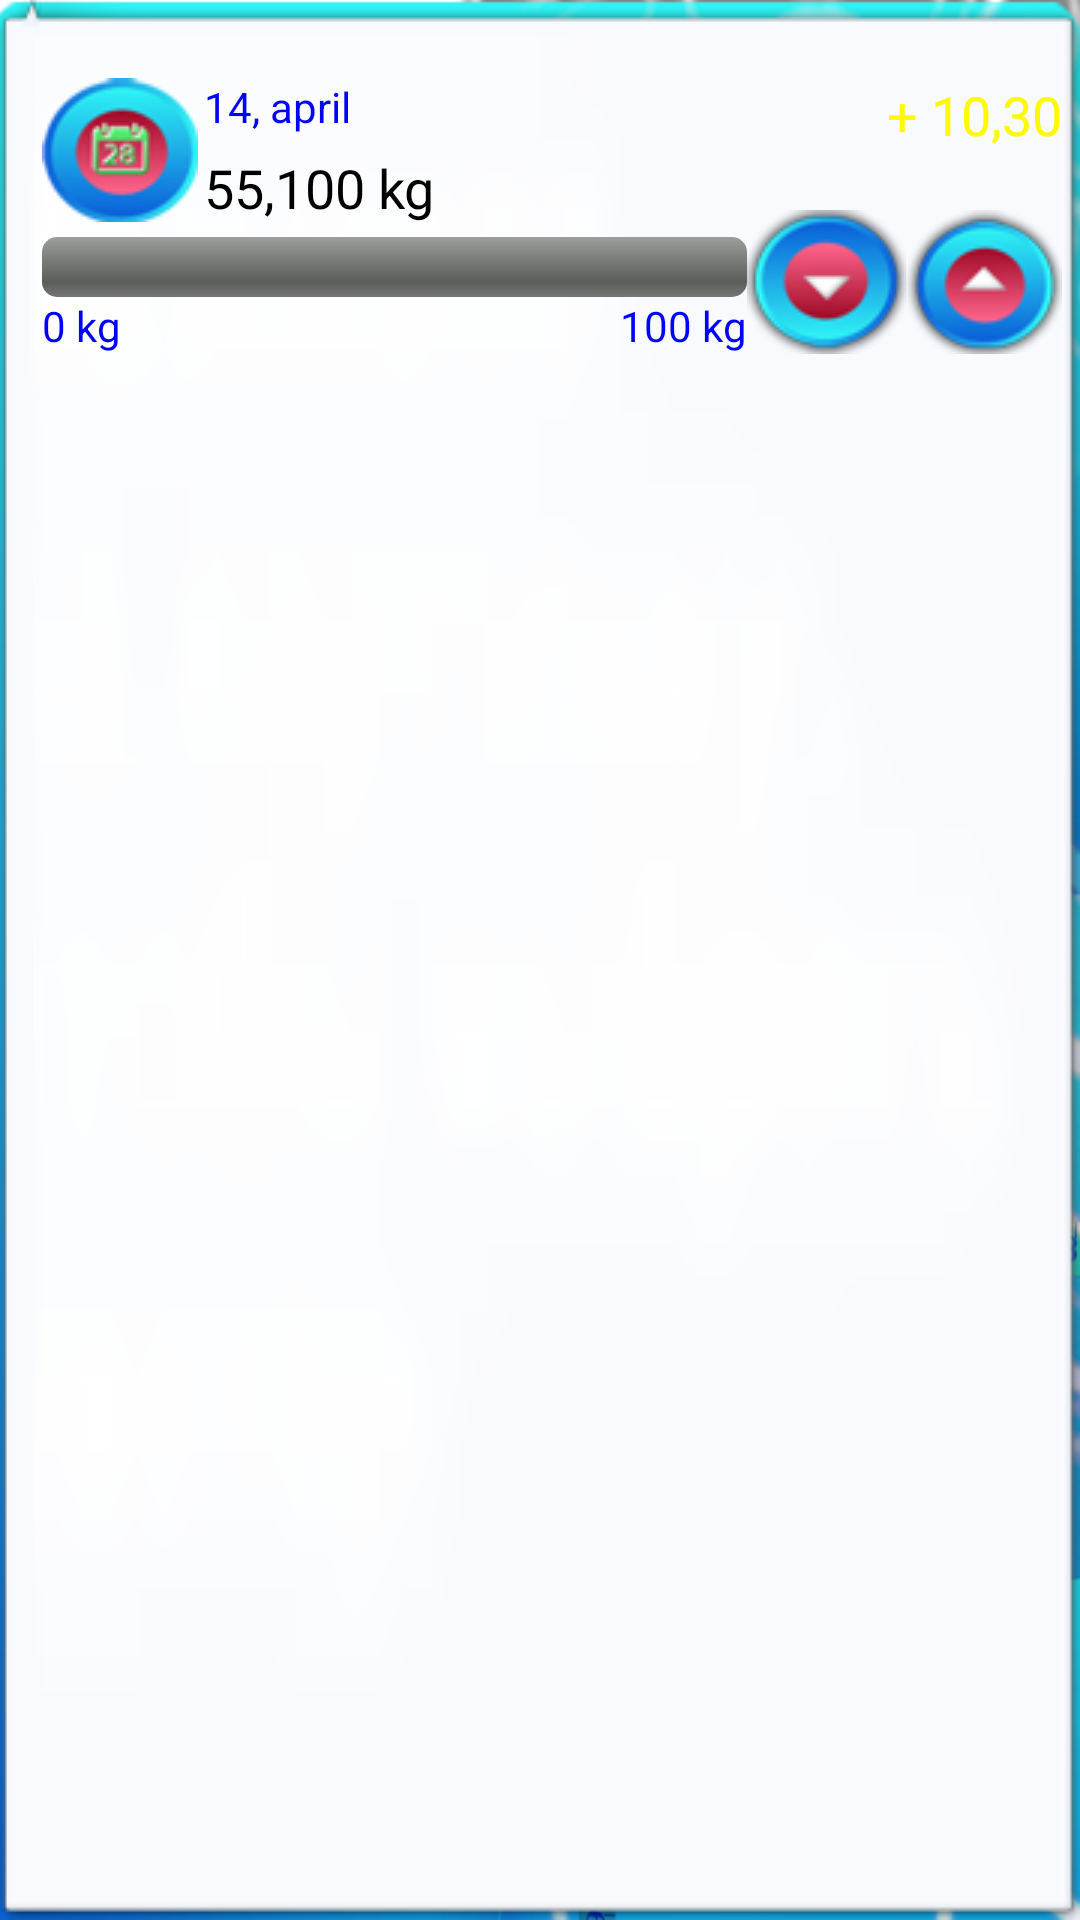

Locate icon controls on the screen. Image size 1080x1920, boxes as (x1, y1, x2, y2).
date: (42, 78, 198, 222)
down: (747, 210, 906, 354)
